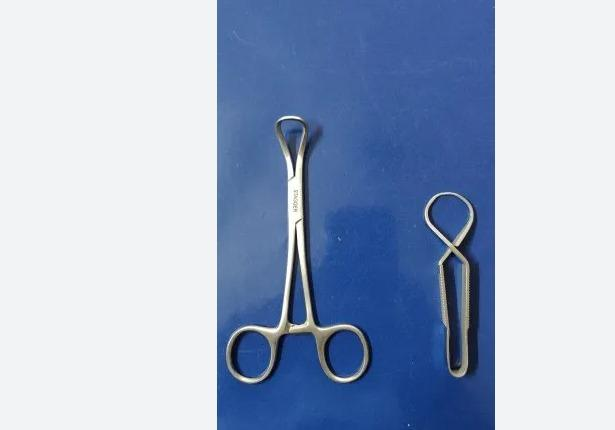Doyen Cross Action Towel Clamp: (417, 181, 481, 377)
